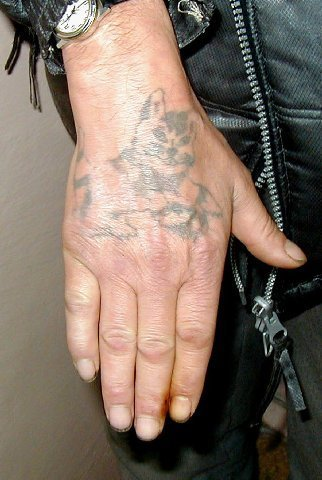tatu8_kot: (74, 86, 226, 248)
